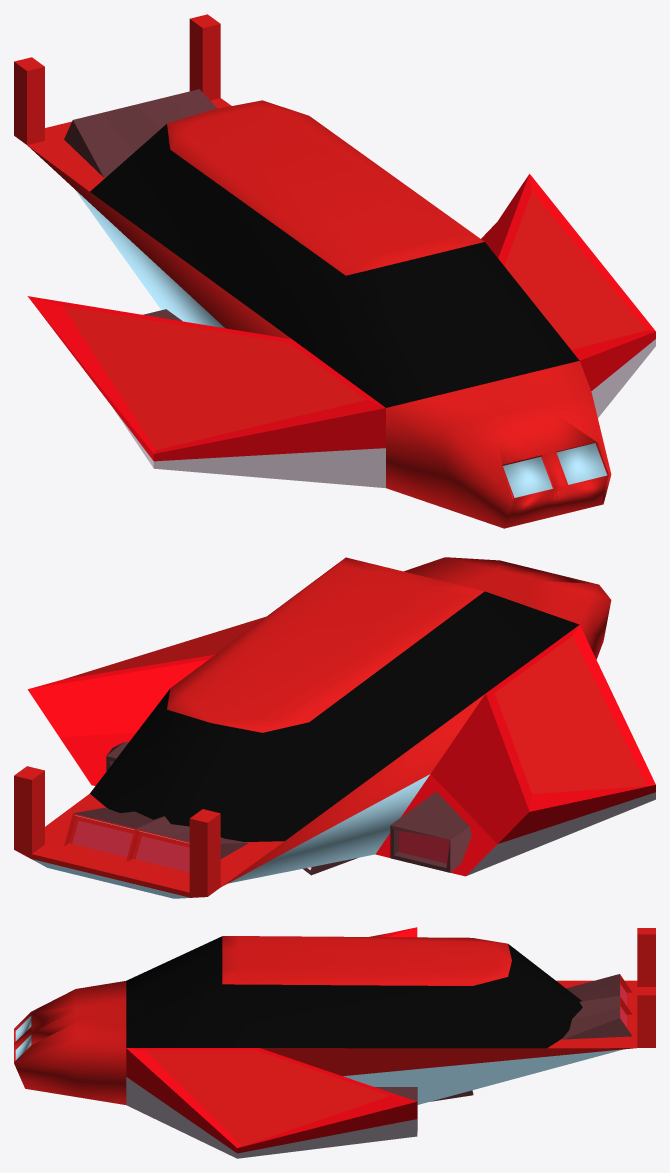
File: car1.glb
3 renders of one model, top to bottom at view 1: azimuth 30°, elevation 25°; view 2: azimuth 150°, elevation 25°; view 3: azimuth 270°, elevation 25°, orthographic. The views are drawn at different scales.
Visible parts, largest first — view 1: Cube; view 2: Cube; view 3: Cube.
Part boxes in pixels (bbox=[...]): Cube: bbox=[14, 14, 655, 528]; Cube: bbox=[14, 557, 655, 898]; Cube: bbox=[14, 927, 655, 1158].
Bounding box in the file's own units: 13.11 × 4.01 × 20.38.
